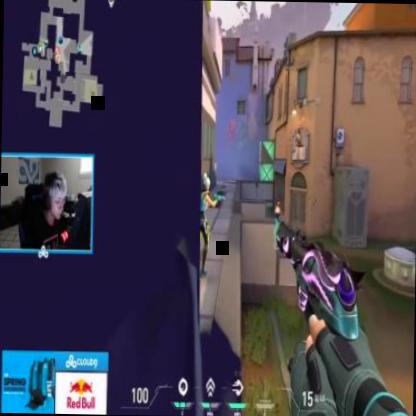enemy: (193, 171, 218, 279)
enemy_head: (202, 172, 210, 191)
